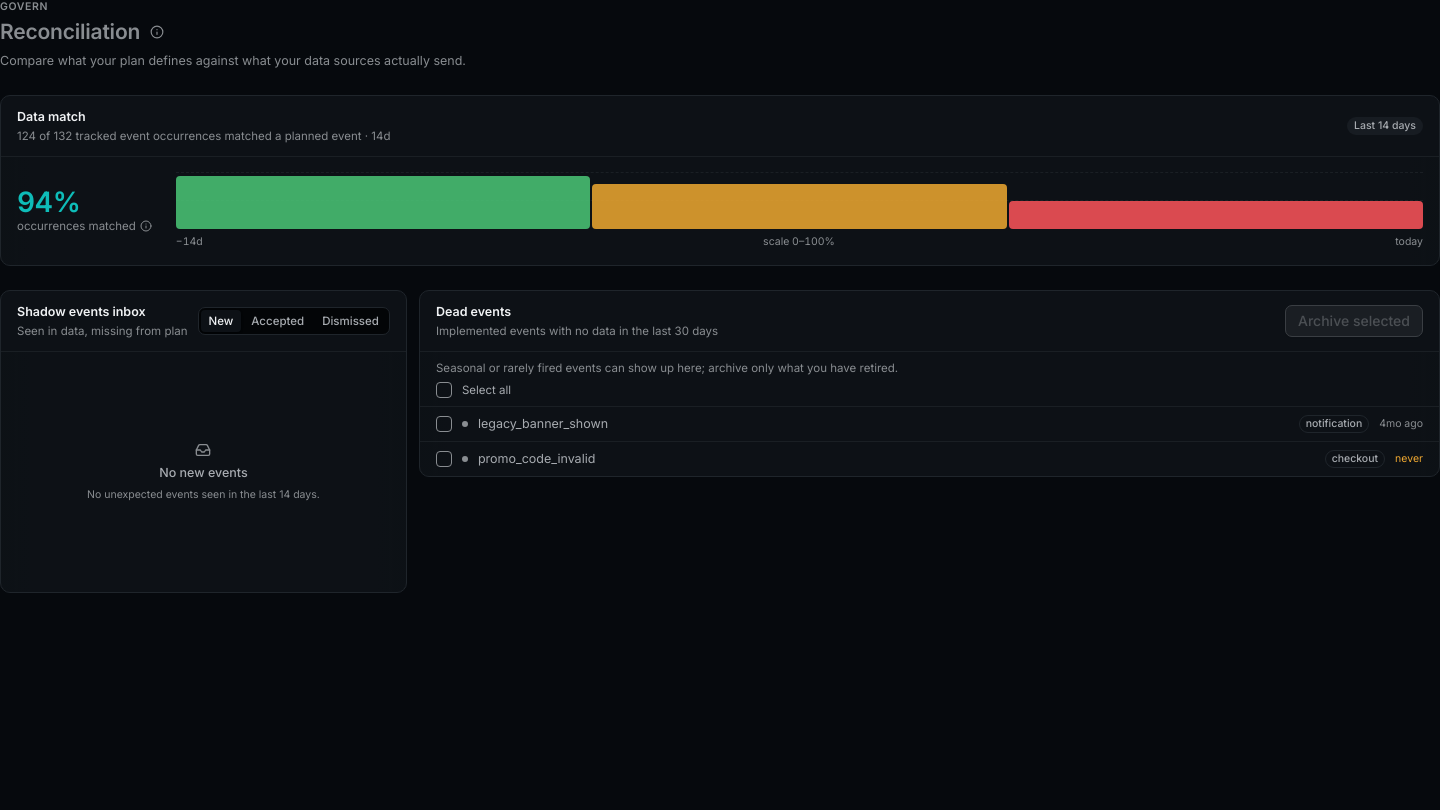
Test: ReconciliationPage › asks before archiving, sends nothing on cancel, and reports what it archived
Click the checkbox named "Select all dead events" at (444, 390), box [436,382,452,398]
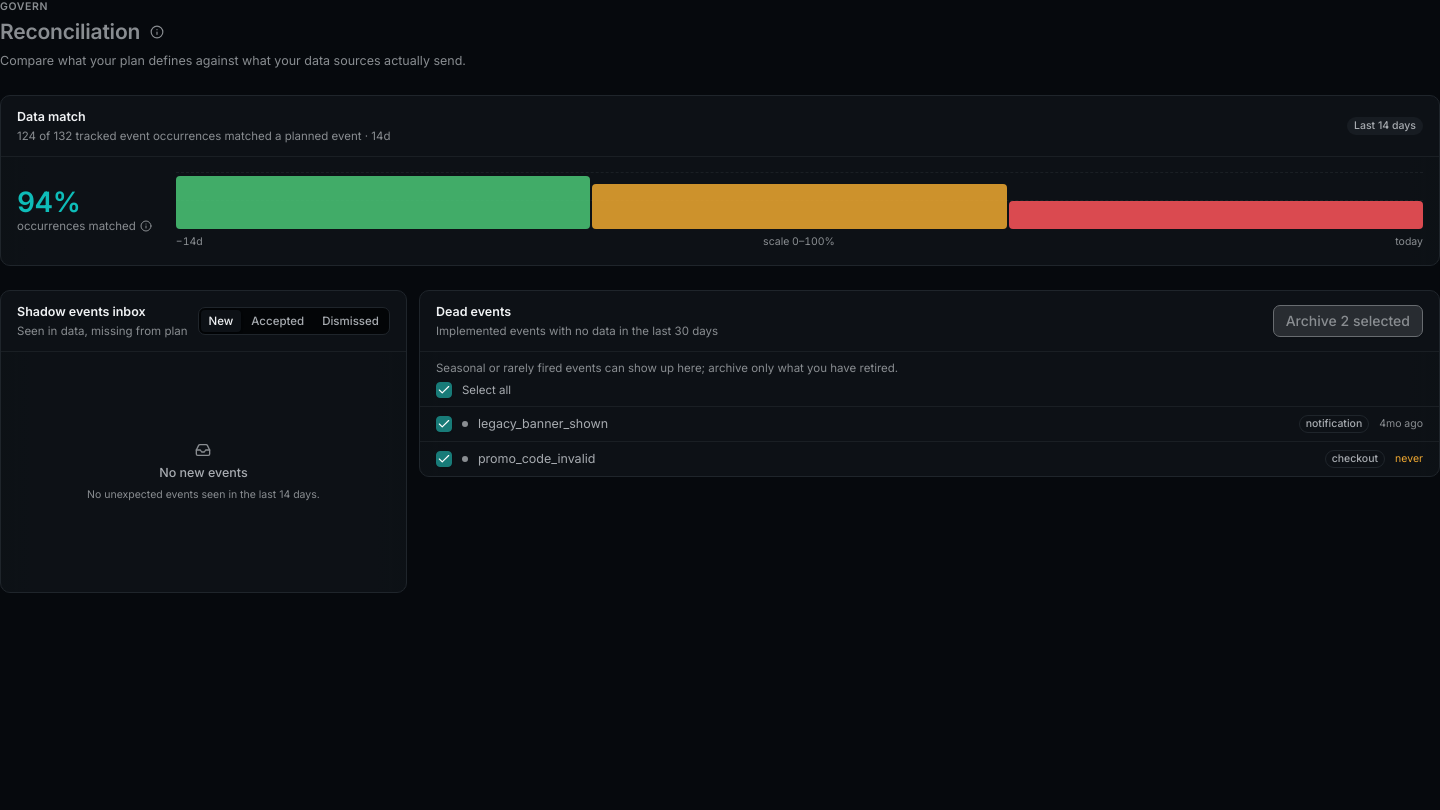
Click the button "Archive 2 selected" at (1348, 321), box [1273,305,1423,337]
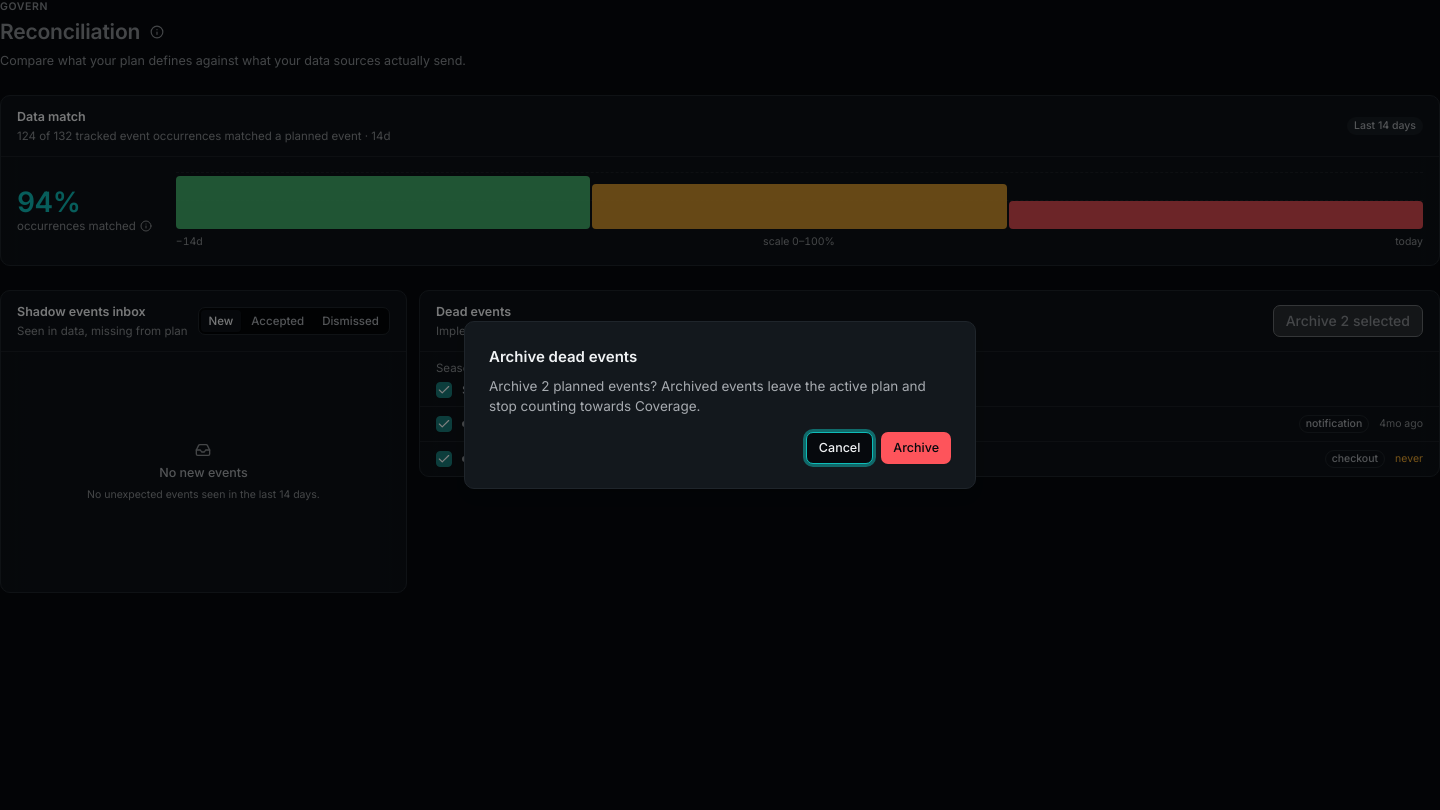
Check: the dialog shows "Archive 2 planned events?", box [489,378,926,414]
Click the button "Cancel" at (840, 448), box [806,432,873,464]
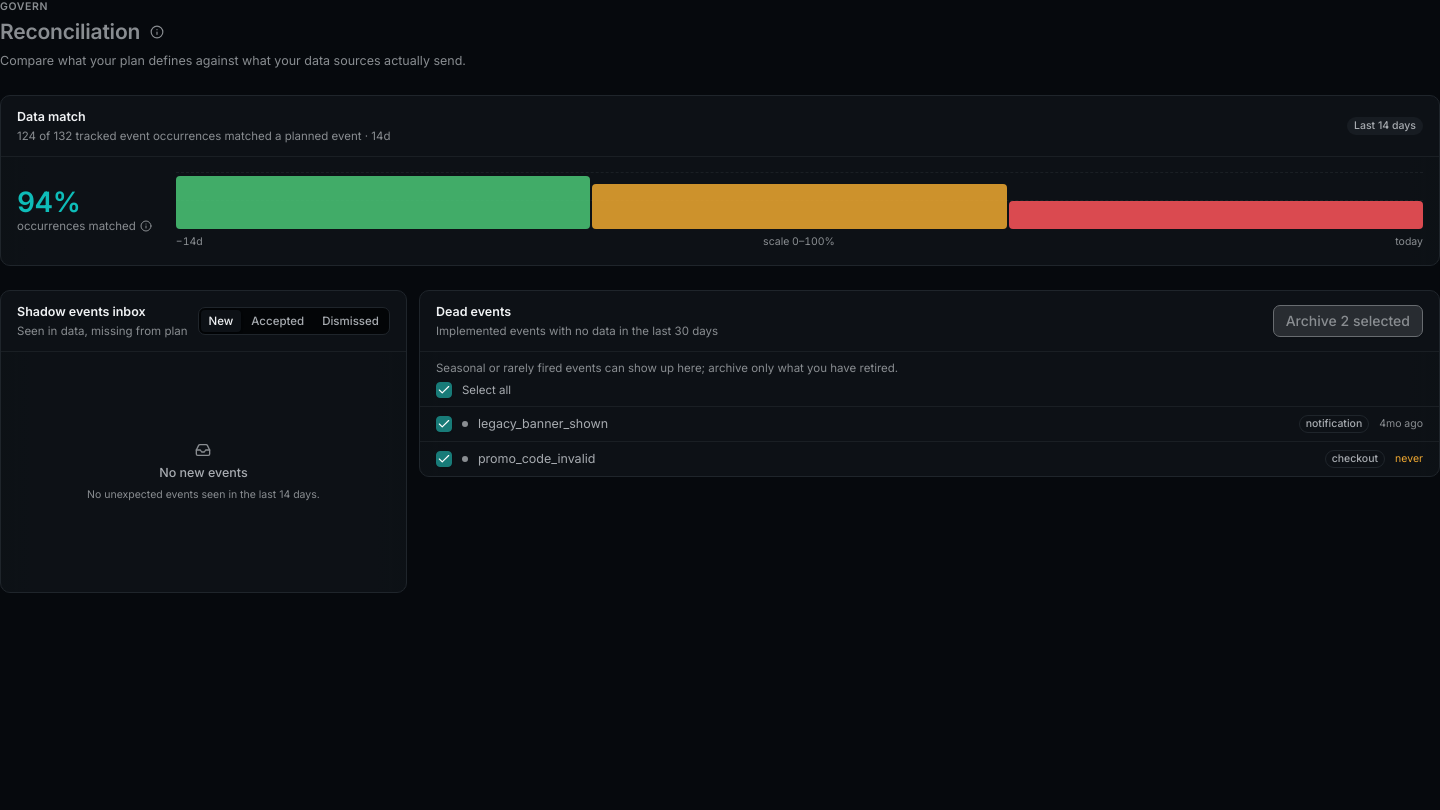
Check: the dialog is gone
Click the button "Archive 2 selected" at (1348, 321), box [1273,305,1423,337]
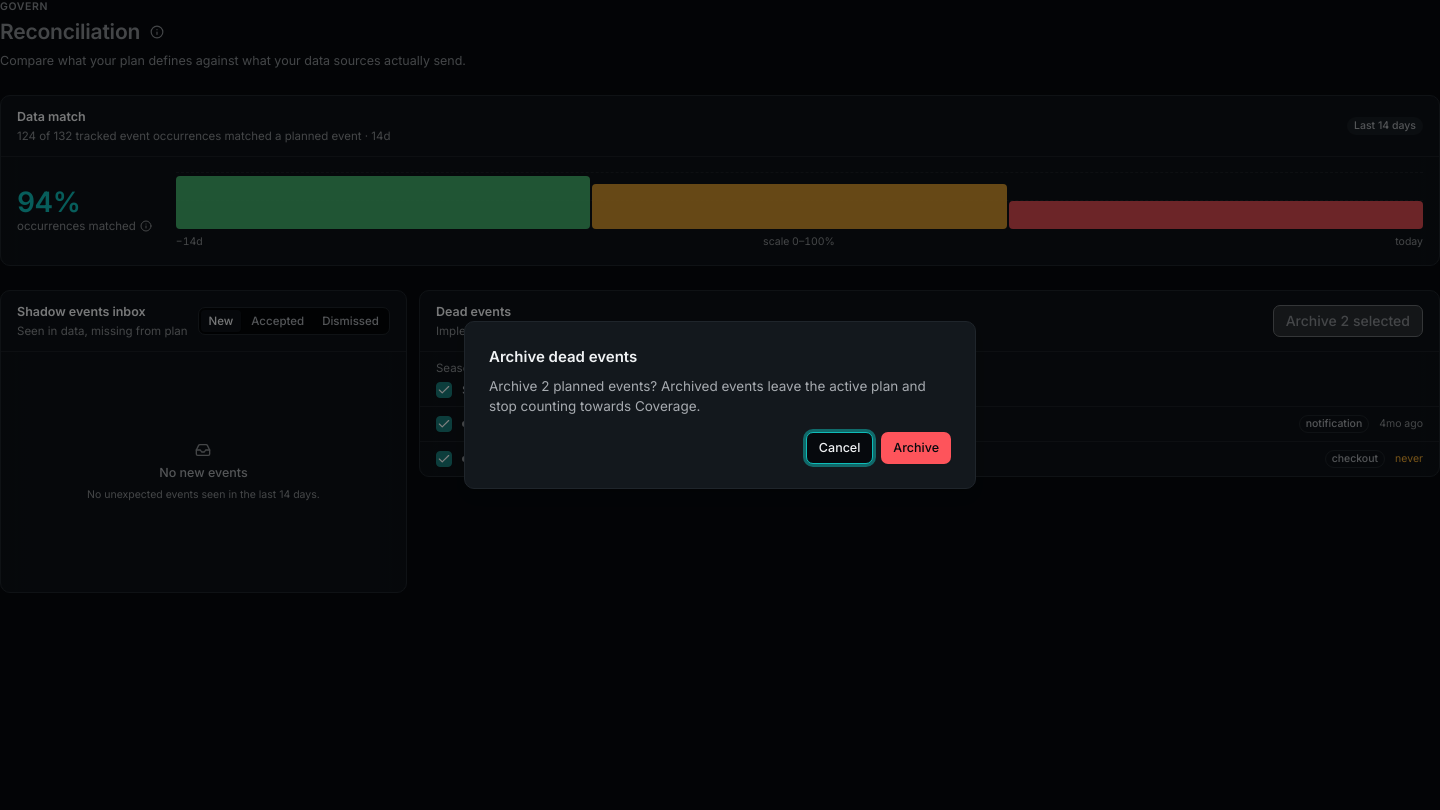
Click the button "Archive" at (916, 448), box [881,432,951,464]
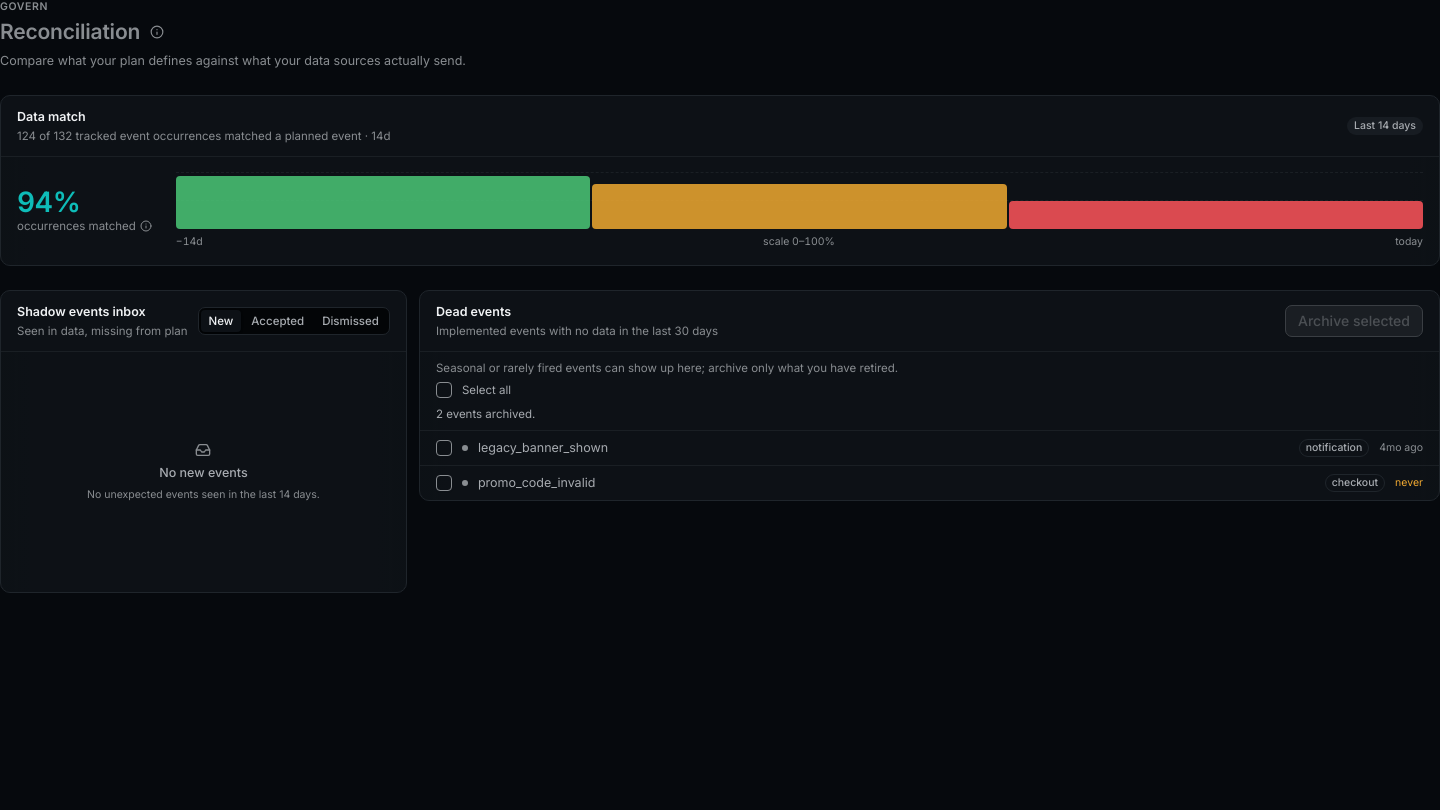
Check: the message reads "2 events archived.", box [436,407,535,421]
